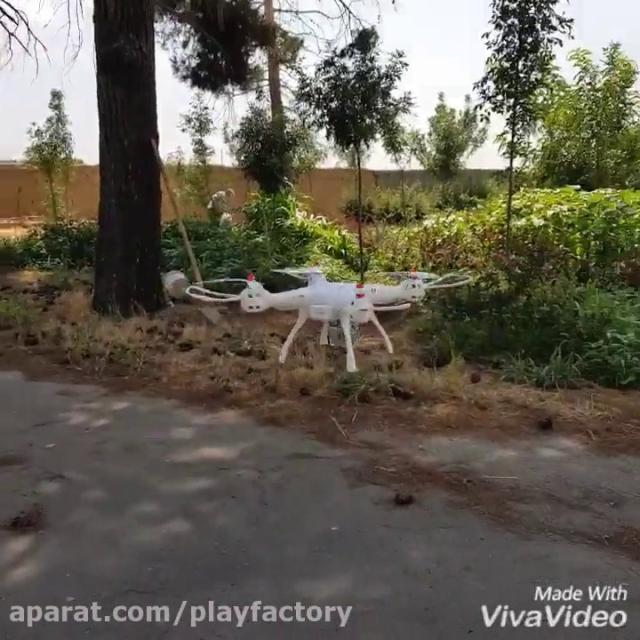drone: (185, 258, 472, 373)
